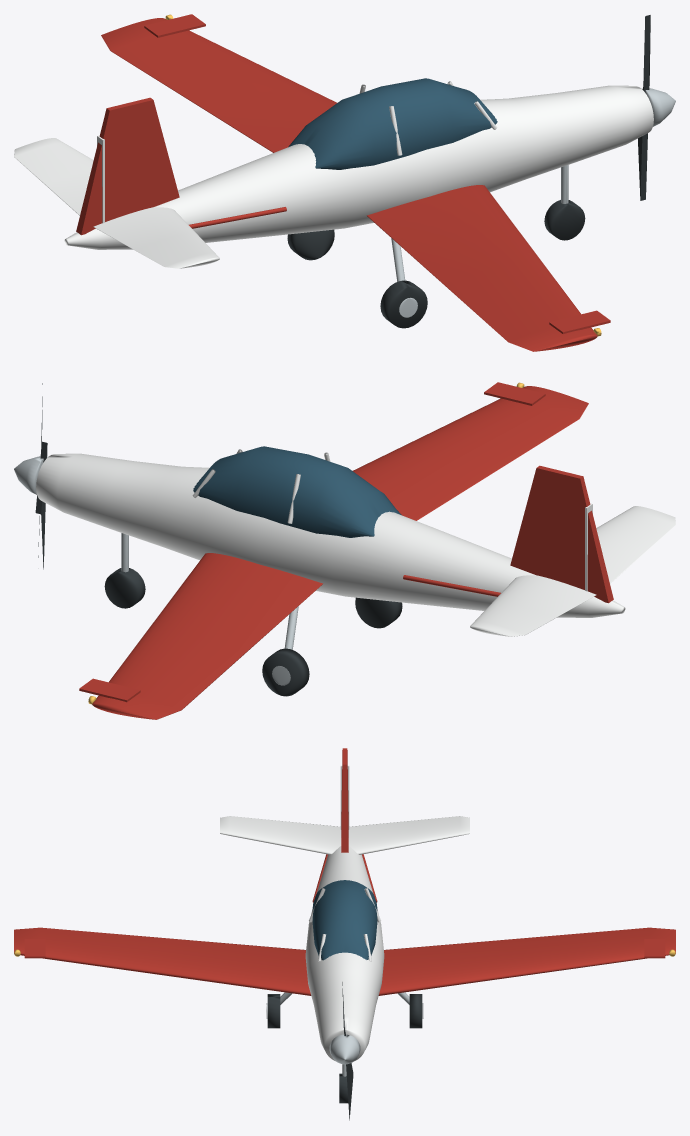
File: swift.glb
3 views of the same model, one above another, from view 1: azimuth 30°, elevation 25°; view 2: azimuth 150°, elevation 25°; view 3: azimuth 270°, elevation 25° (orthographic). The views are drawn at different scales.
Visible parts, largest first — view 1: swift.glb, Propeller; view 2: swift.glb, Propeller; view 3: swift.glb.
Boxes of the visible parts, x1=… form: swift.glb: x1=14, y1=14, x2=675, y2=351; Propeller: x1=638, y1=15, x2=650, y2=200; swift.glb: x1=14, y1=382, x2=675, y2=719; Propeller: x1=35, y1=383, x2=47, y2=569; swift.glb: x1=14, y1=748, x2=675, y2=1103.
Size of the model in its own units: 7.64 by 2.9 by 9.4.
